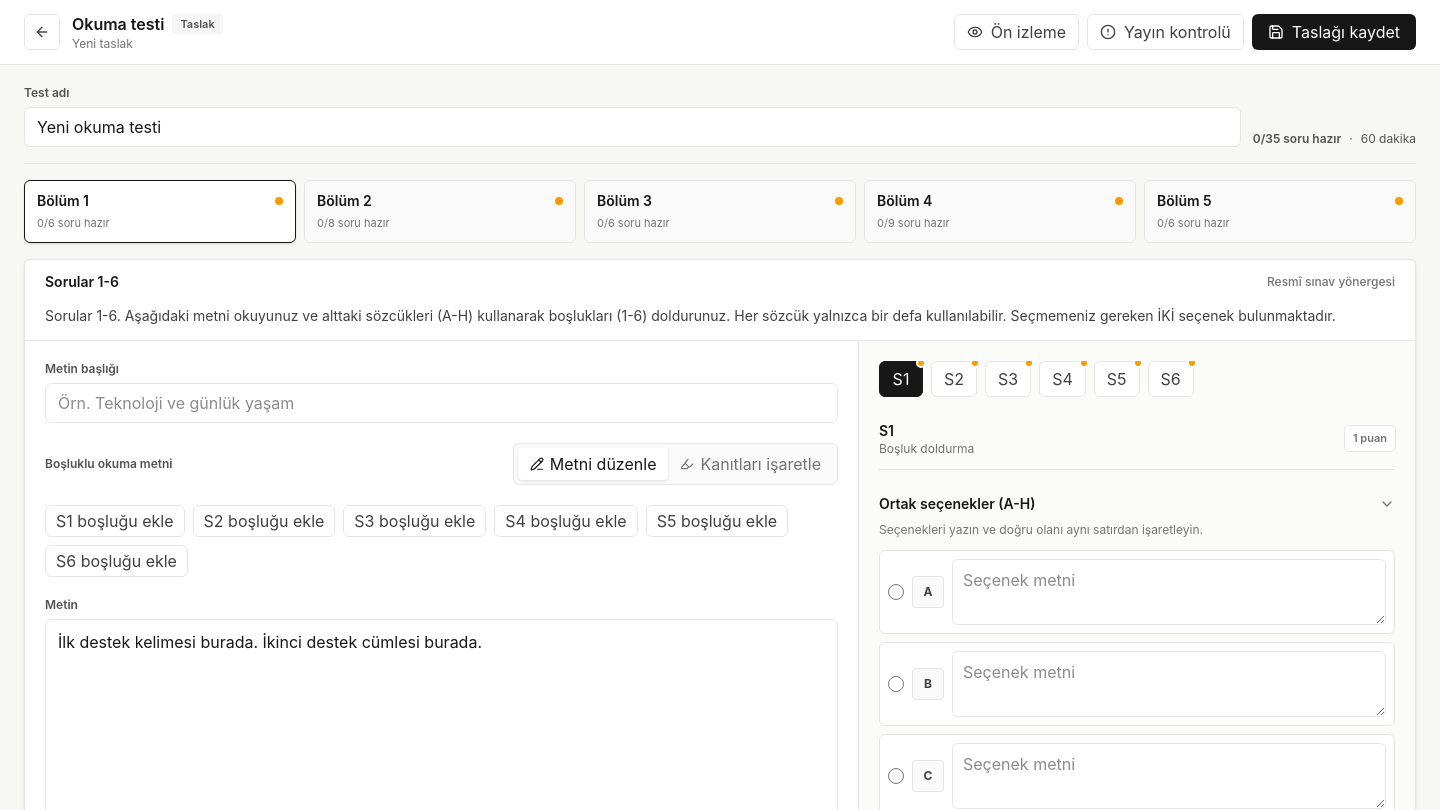
it: ReadingExamEditorV3 › keeps multiple evidence fragments for the same section one question
What coordinates should you click on to do the following:
click the button "Kanıtları işaretle"
I would click on:
 (751, 464)
Its box is [668,448,833,480].
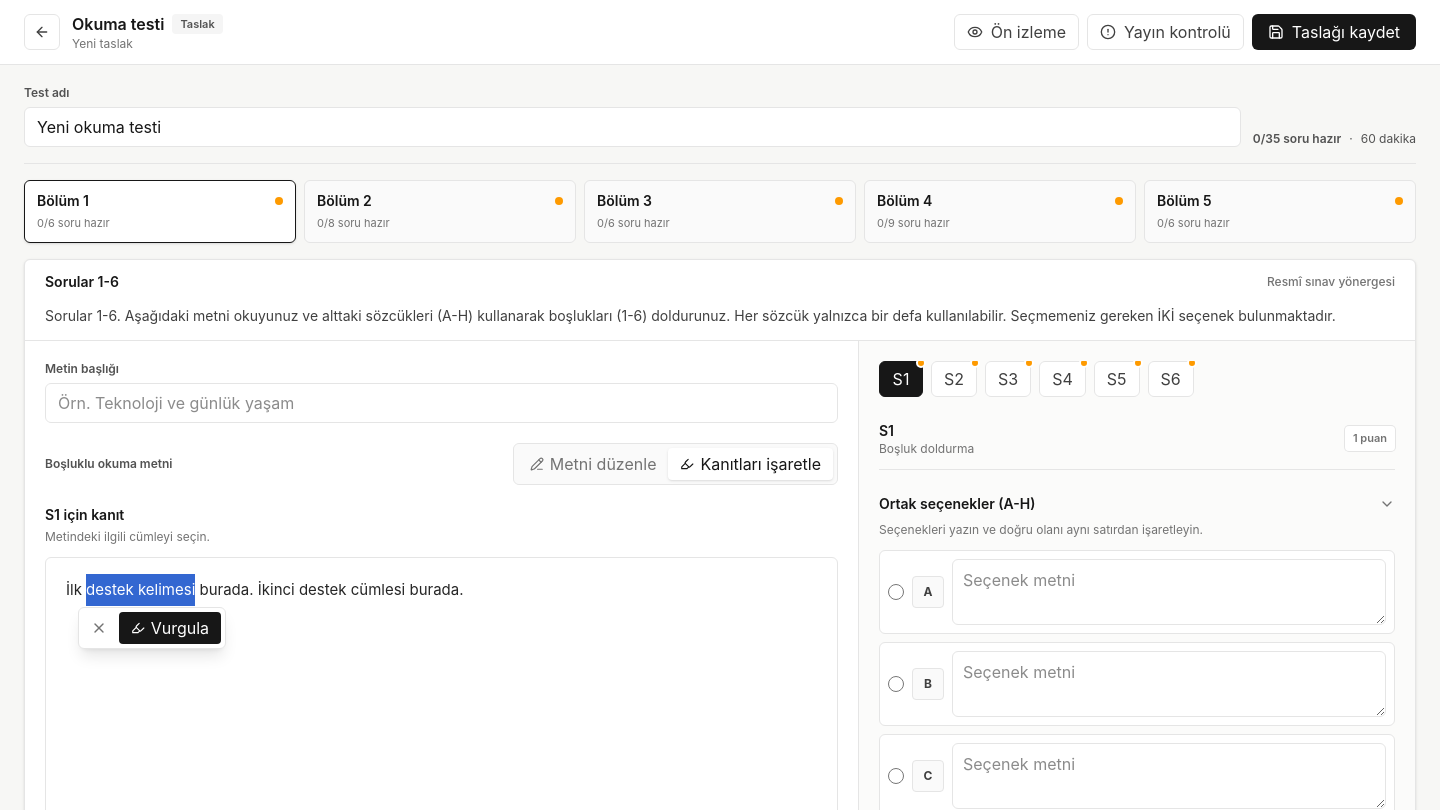
What coordinates should you click on to do the following:
click the button "Vurgula"
I would click on:
 (170, 628)
Its box is [119,612,221,644].
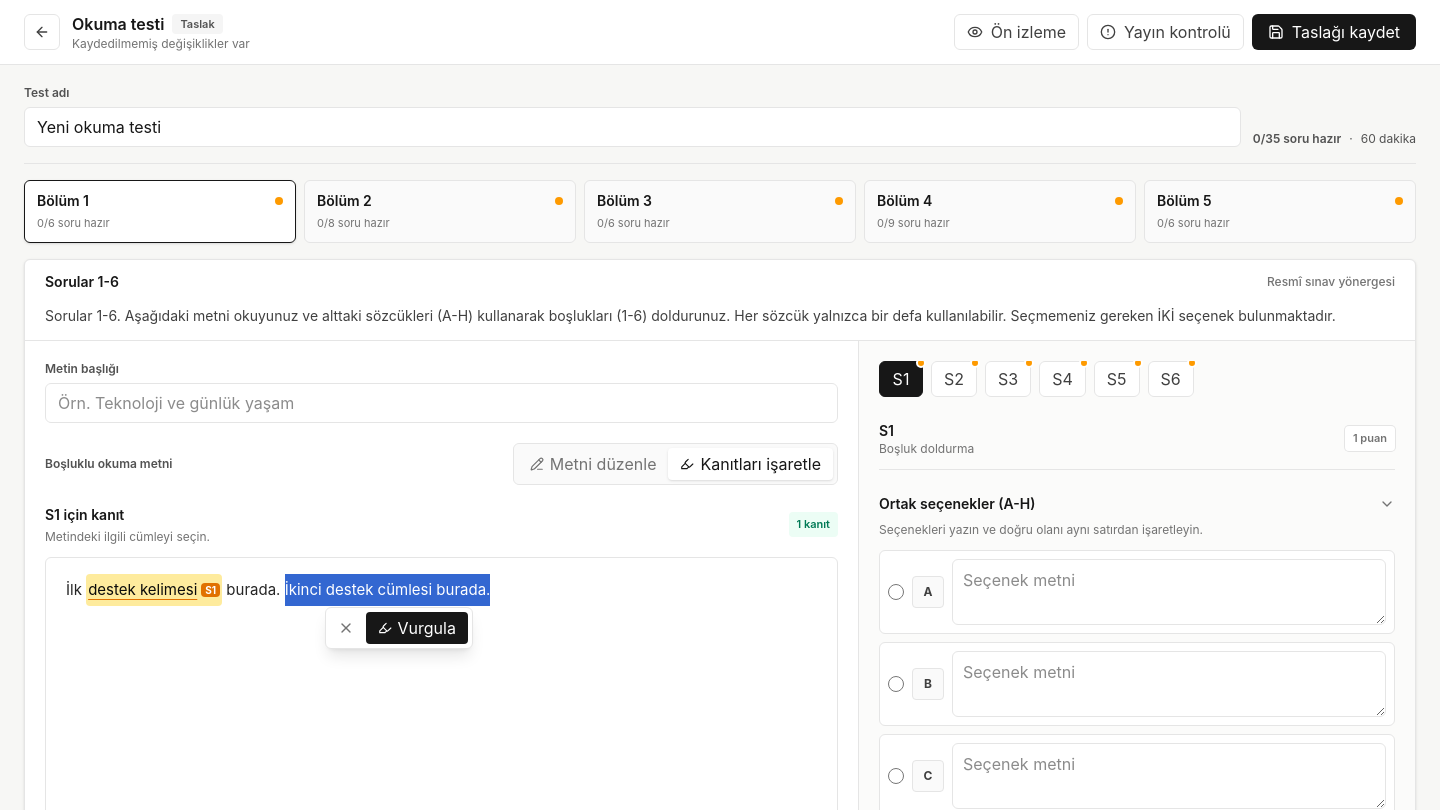
What coordinates should you click on to do the following:
click the button "Vurgula"
I would click on:
 (417, 628)
Its box is [366,612,468,644].
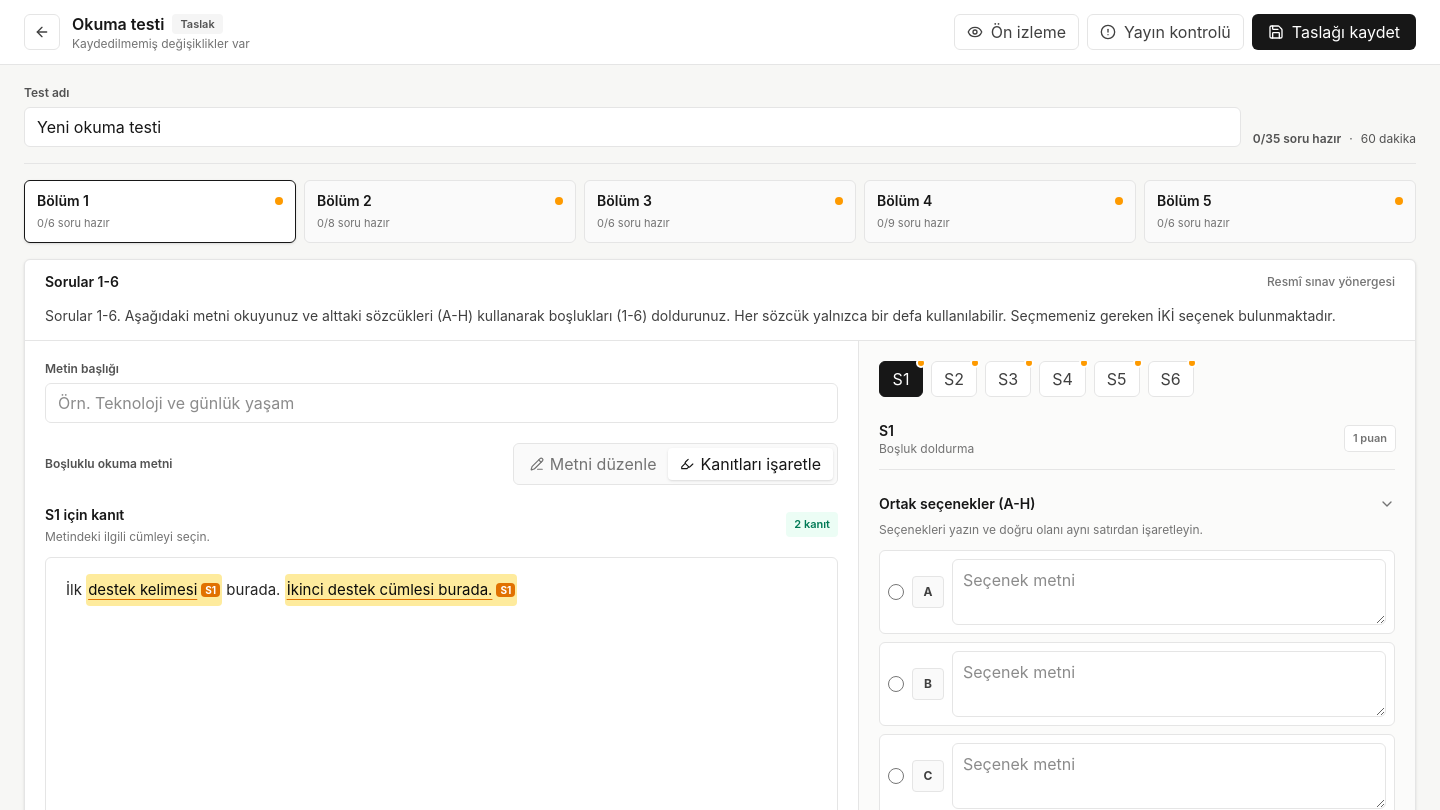
Now the number of buttons named "S1 kanıtını aç" is 2, box [86,574,222,606]; [285,574,517,606]
Now the text "2 kanıt" is shown, box [786,512,838,537]
